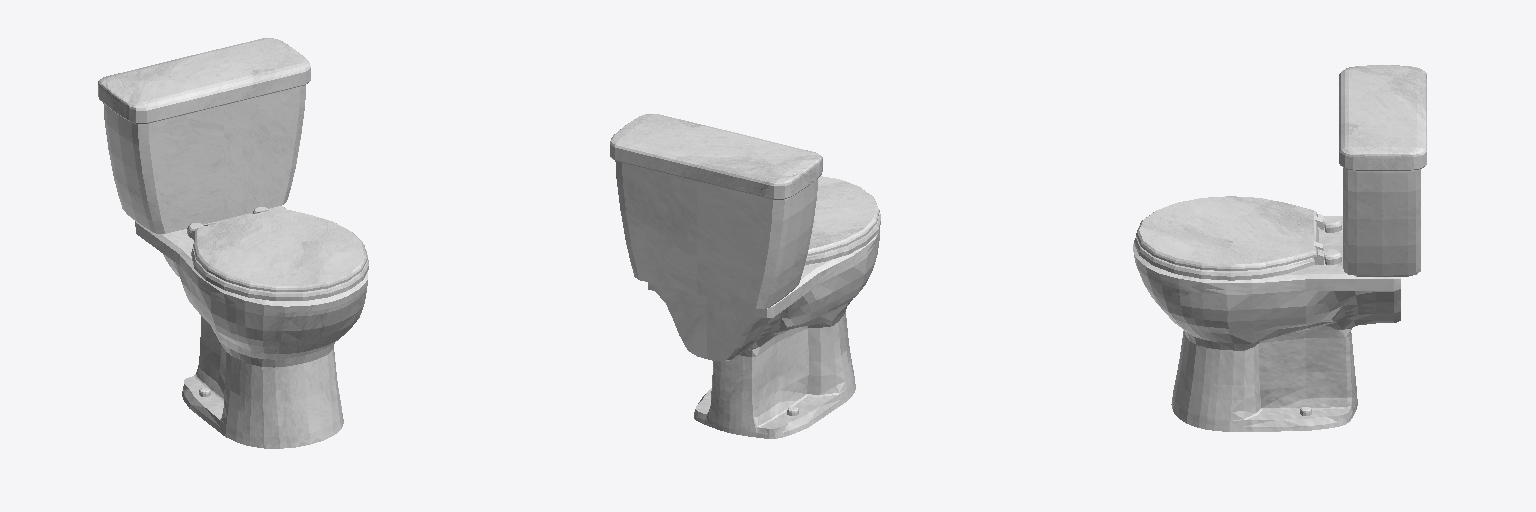
3 renders of one model, left to right at view 1: azimuth 30°, elevation 25°; view 2: azimuth 150°, elevation 25°; view 3: azimuth 270°, elevation 25°, orthographic.
Parts seen in each view (by area): view 1: Toilet; view 2: Toilet; view 3: Toilet.
Part boxes in pixels (x1,y1,x2,y2): Toilet: (98, 38, 368, 448); Toilet: (610, 114, 880, 438); Toilet: (1133, 65, 1426, 431).
Size of the model in its own units: 7.7 by 11.97 by 10.72.
1 materials, 1 textured.